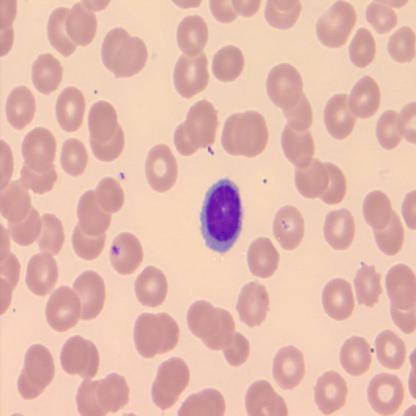Lymphocyte: (198, 177, 244, 254)
